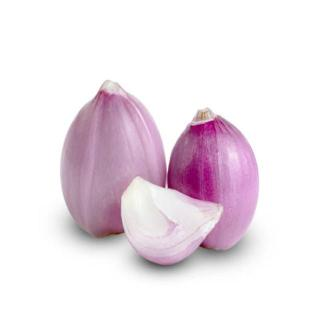Bawang Merah: (57, 78, 169, 241), (167, 104, 264, 256)
